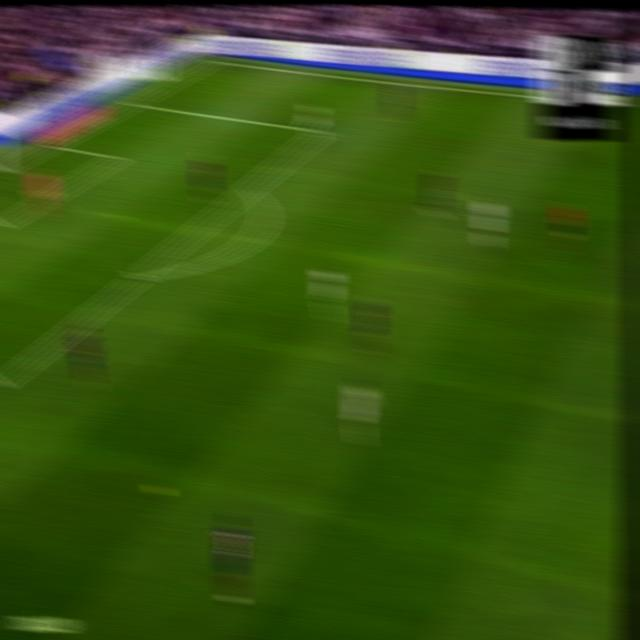bigarea_bottom_inner: (0, 372, 5, 403)
bigarea_top_inner: (311, 121, 329, 139)
bigarea_top_outter: (123, 93, 141, 109)
bottom_arc_area_intersection: (130, 264, 150, 286)
corner: (201, 53, 219, 66)
smallarea_top_inner: (108, 151, 125, 164)
top_arc_area_intersection: (240, 177, 259, 197)
